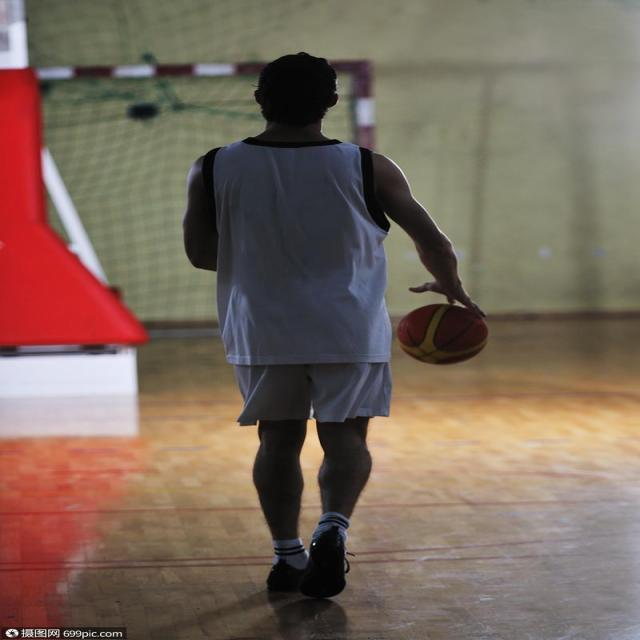rim: (403, 304, 484, 366)
